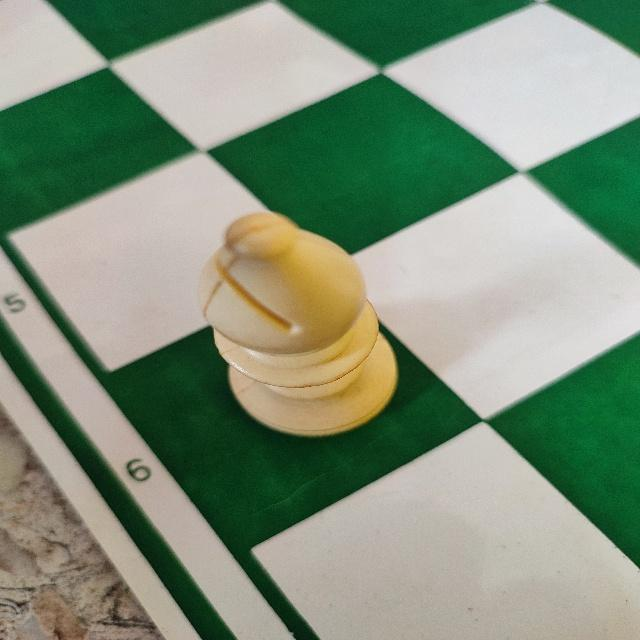Bishop: (194, 206, 402, 438)
